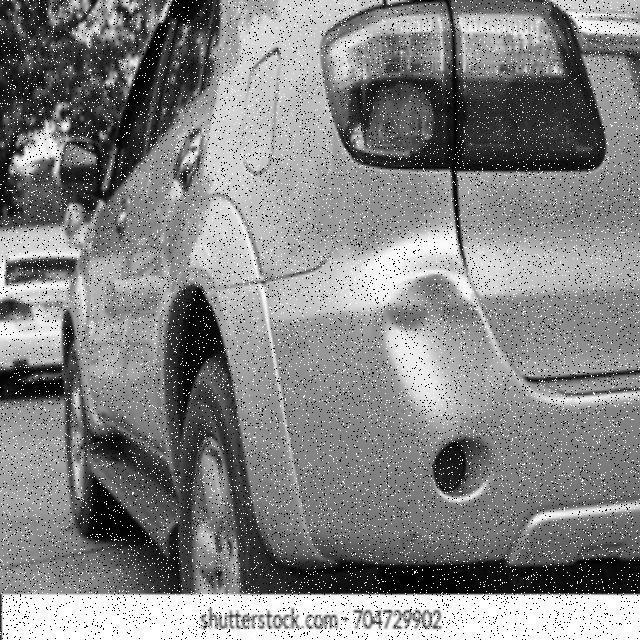rear-bumper-dent: (254, 249, 639, 576)
